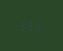six: (27, 19, 34, 31)
three: (18, 19, 25, 30)
zero: (35, 20, 42, 31)
